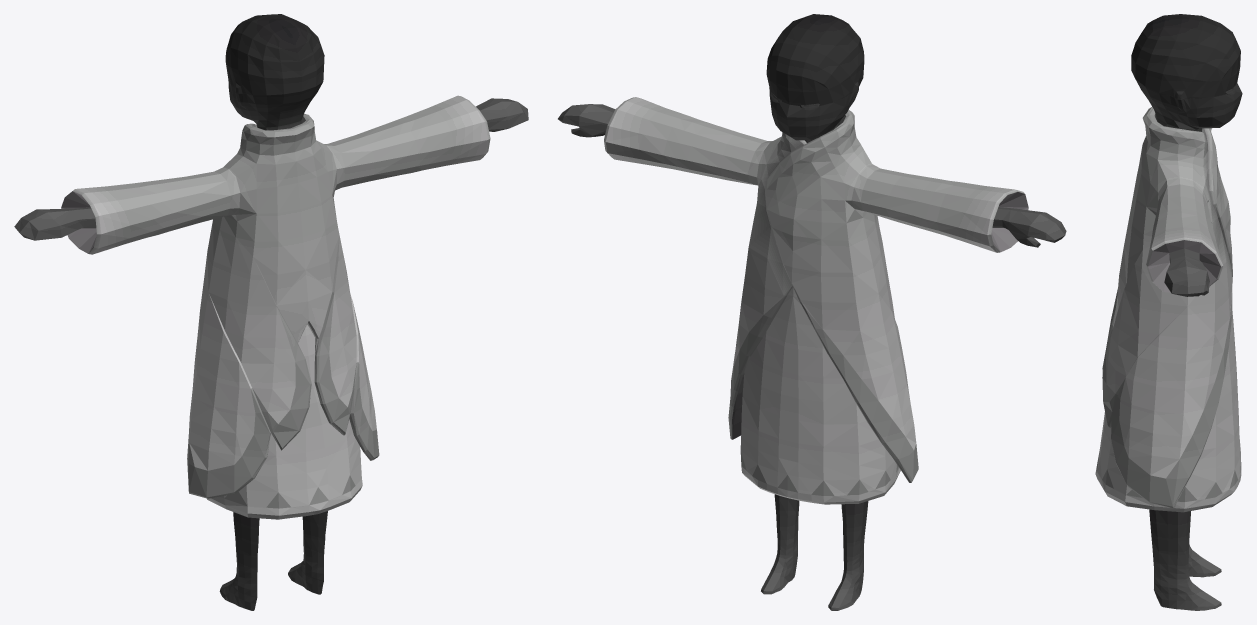
The model's file is CharSkyKid_Body_AP15LightCreature_01.glb.
The picture shows the model from 3 angles, left to right: view 1: azimuth 30°, elevation 25°; view 2: azimuth 150°, elevation 25°; view 3: azimuth 270°, elevation 25°; orthographic projection.
Parts seen in each view (by area): view 1: CharSkyKid_Body_AP15LightCreature_01; view 2: CharSkyKid_Body_AP15LightCreature_01; view 3: CharSkyKid_Body_AP15LightCreature_01.
Boxes of the visible parts, box(x1,y1,x2,y2) form: CharSkyKid_Body_AP15LightCreature_01: box(14, 14, 528, 610); CharSkyKid_Body_AP15LightCreature_01: box(558, 14, 1066, 610); CharSkyKid_Body_AP15LightCreature_01: box(1095, 14, 1242, 610).
Bounding box in the file's own units: 13.83 × 14.94 × 3.49.
Materials: 1 (1 with a texture image).
